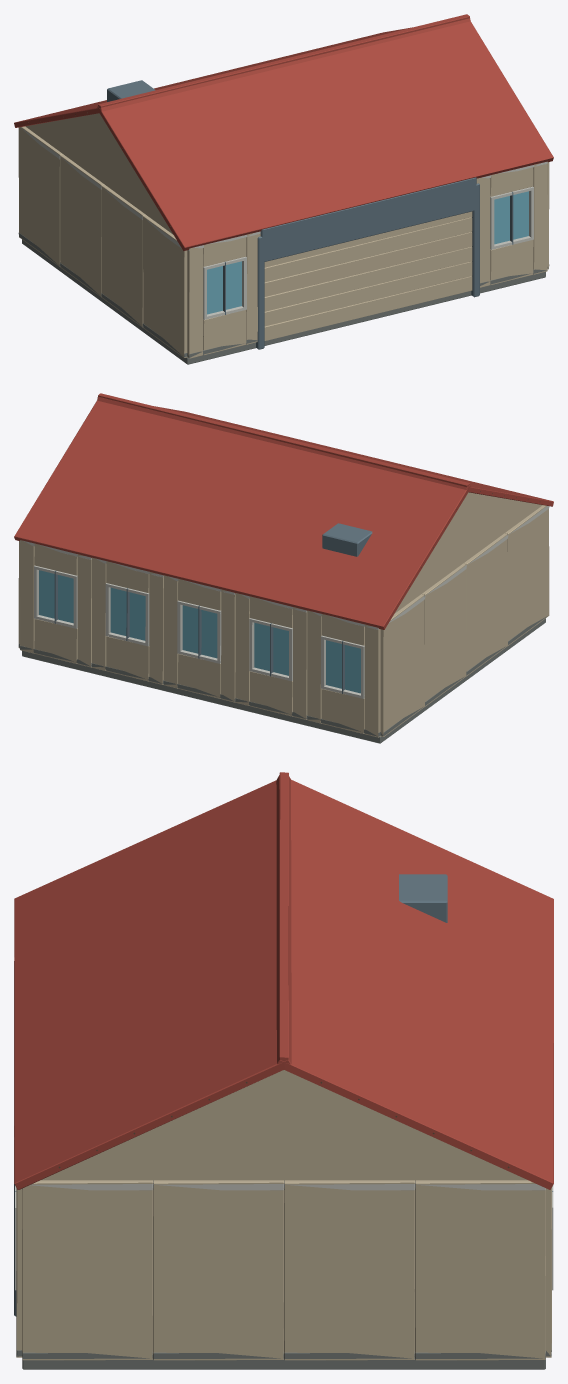
File: architecture-workshop.lod1.glb
3 views of the same model, one above another, from view 1: azimuth 30°, elevation 25°; view 2: azimuth 150°, elevation 25°; view 3: azimuth 270°, elevation 25° (orthographic). The views are drawn at different scales.
Parts seen in each view (by area): view 1: architecture-workshop__body, architecture-workshop__loading_door; view 2: architecture-workshop__body; view 3: architecture-workshop__body.
Part boxes in pixels (<box>): architecture-workshop__body: <box>14,14,553,364</box>; architecture-workshop__loading_door: <box>264,211,472,340</box>; architecture-workshop__body: <box>14,393,553,743</box>; architecture-workshop__body: <box>14,772,553,1369</box>.
Size of the model in its own units: 10.31 by 5.35 by 8.25.
